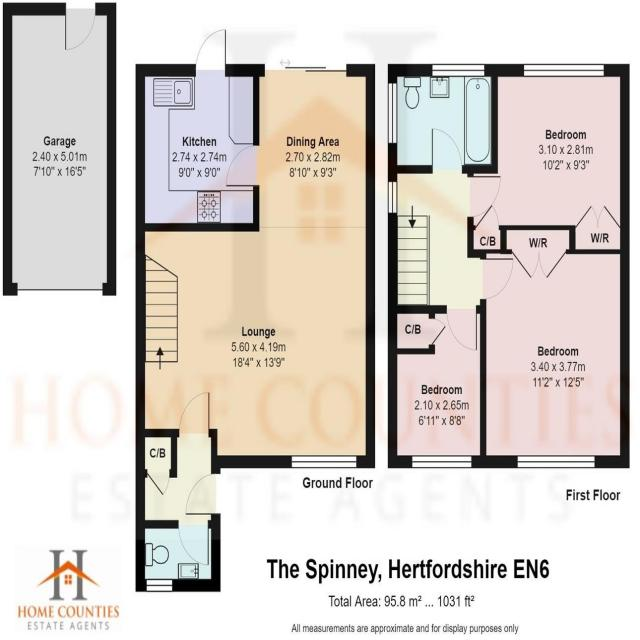DOOR: (192, 24, 230, 77), (182, 468, 221, 517), (176, 386, 212, 438), (223, 141, 261, 190), (176, 520, 212, 571), (445, 304, 480, 356), (468, 172, 504, 222), (430, 125, 465, 174), (480, 256, 515, 302)
ROOM: (135, 65, 376, 469), (480, 225, 630, 469), (466, 62, 631, 259), (136, 19, 260, 232), (388, 304, 488, 469)
WINDOW: (523, 60, 607, 80), (516, 452, 597, 471), (290, 453, 358, 470), (430, 60, 487, 80), (411, 452, 473, 470), (386, 80, 399, 144), (145, 577, 174, 594), (387, 179, 399, 215)
